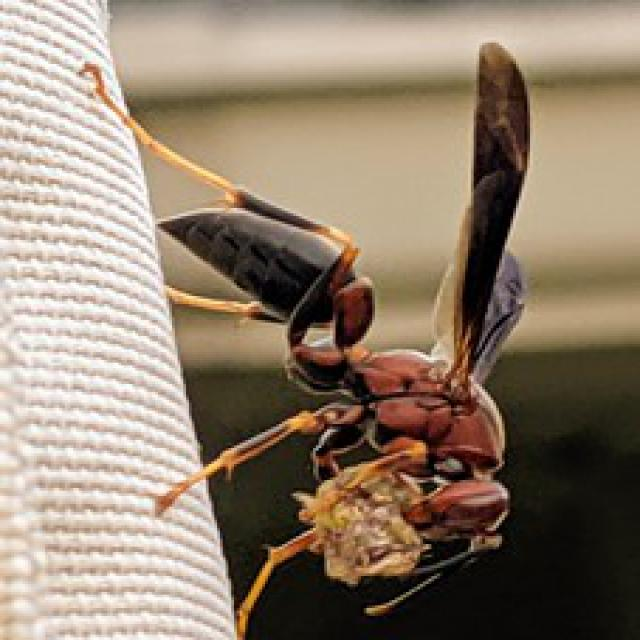Guepe: (65, 27, 564, 637)
